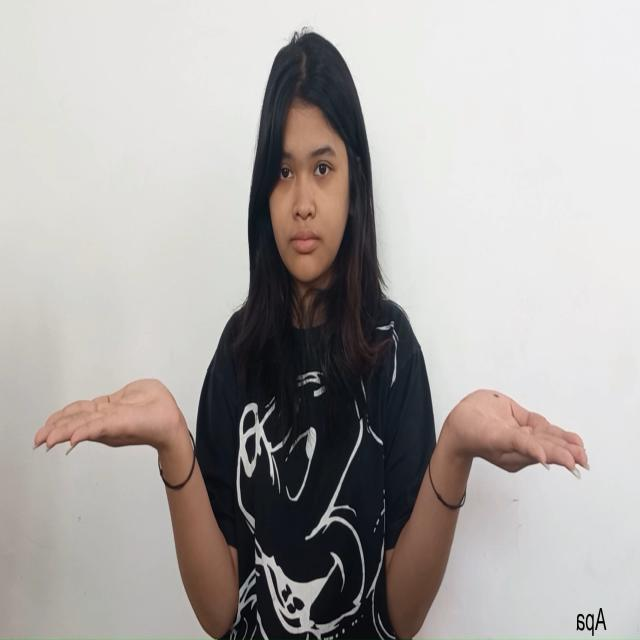Apa -BISINDO-: (31, 375, 591, 480)
